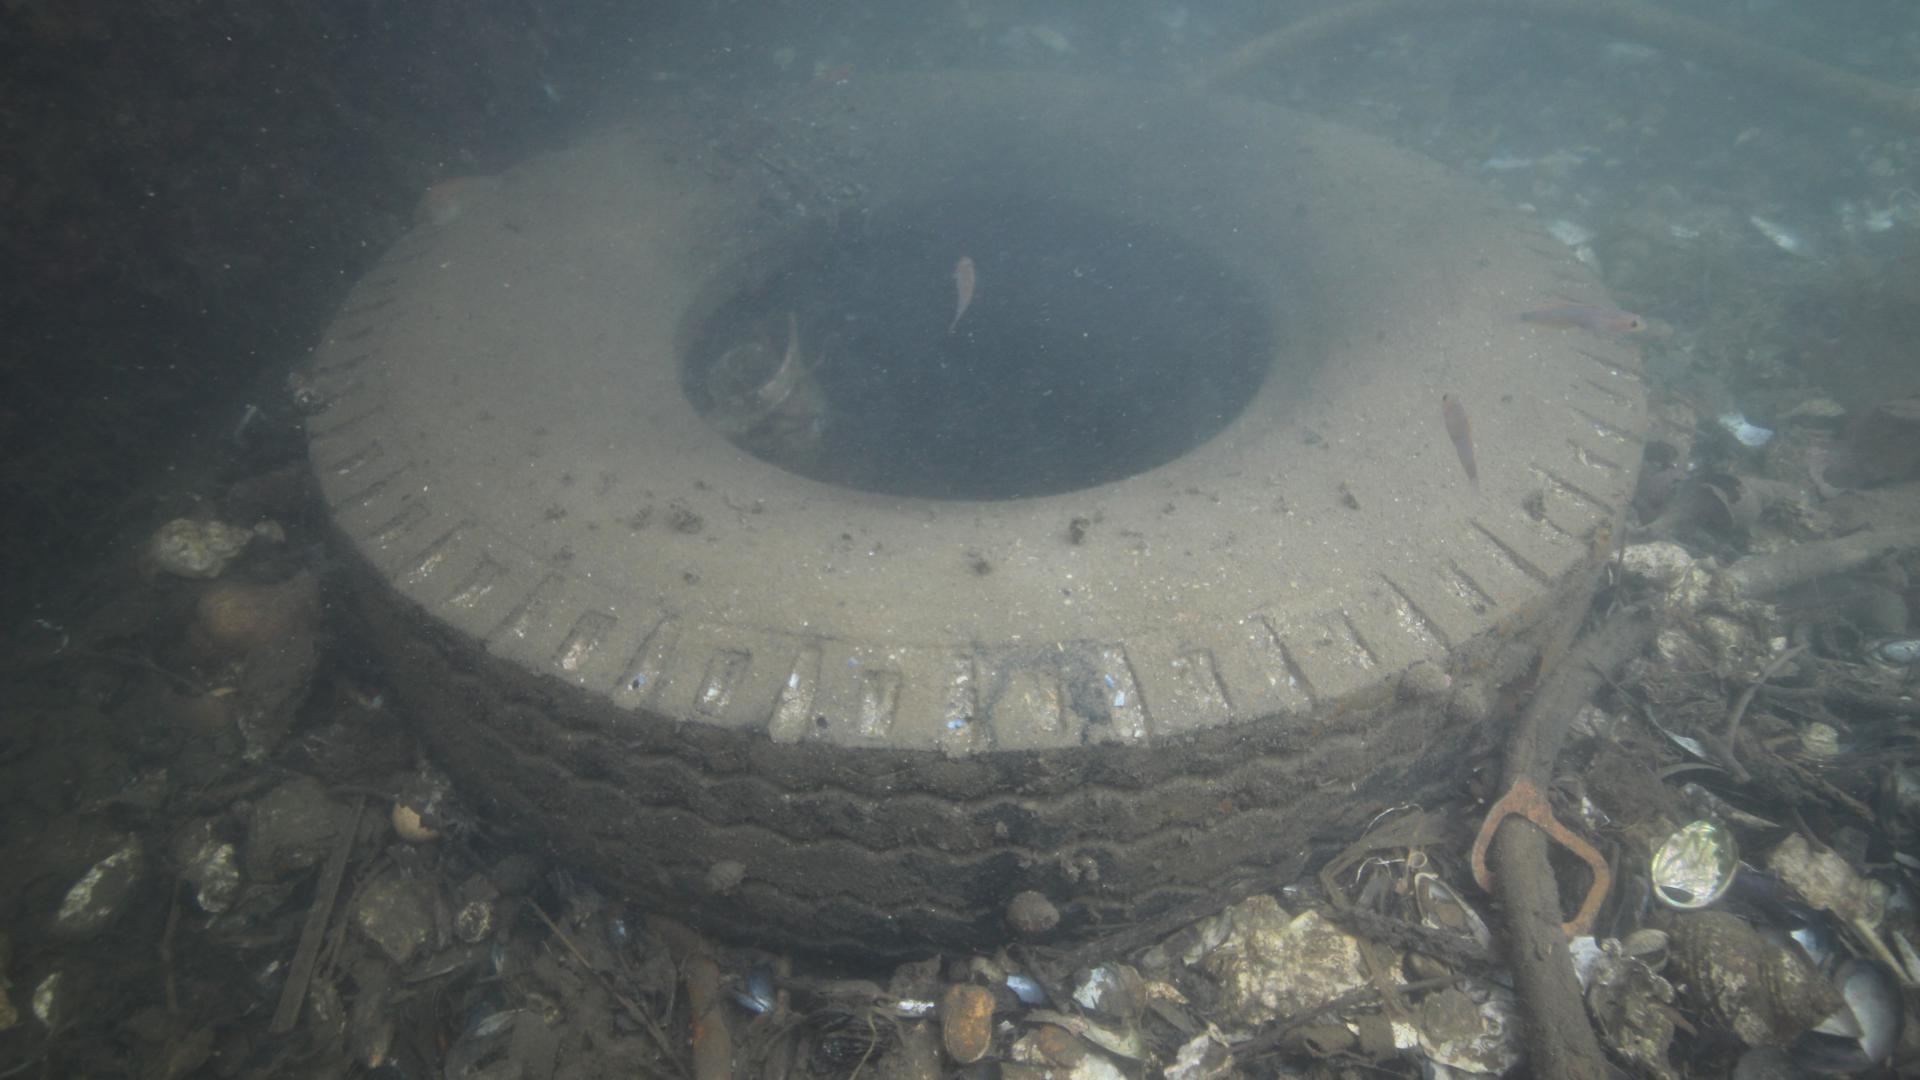tire: (305, 65, 1648, 976)
